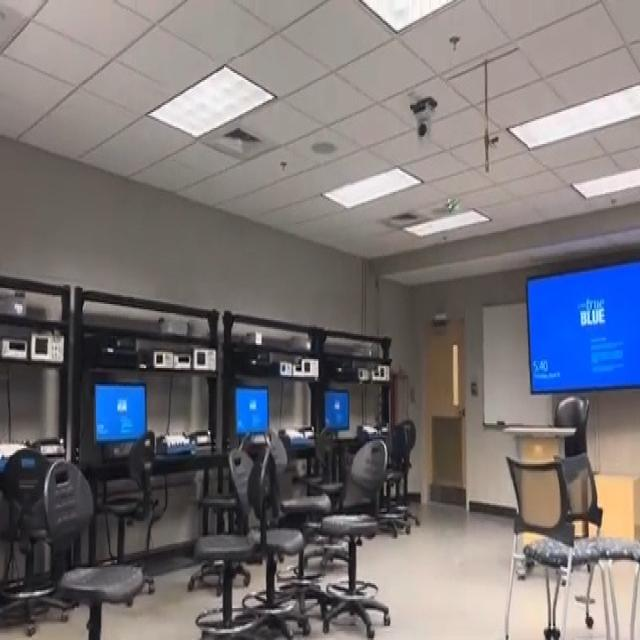drone: (431, 185, 465, 228)
